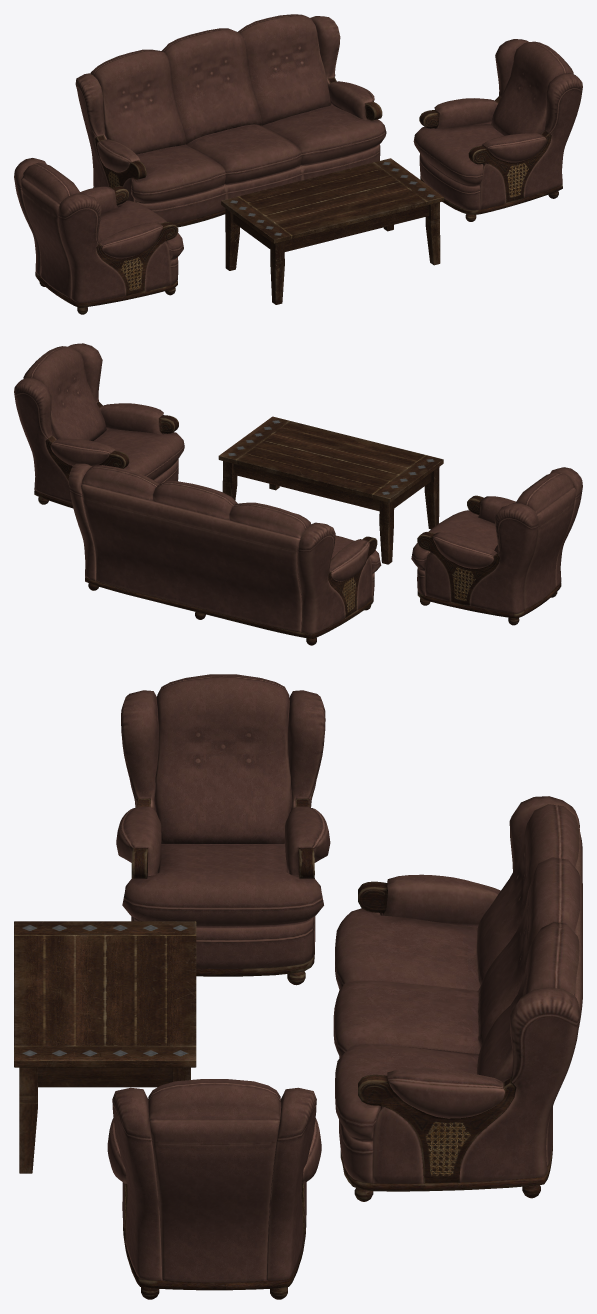
Rendered from sofa_-_classic_furniture_set..glb.
The picture shows the model from 3 angles, top to bottom: view 1: azimuth 30°, elevation 25°; view 2: azimuth 150°, elevation 25°; view 3: azimuth 270°, elevation 25°; orthographic projection. The views are drawn at different scales.
Visible parts, largest first — view 1: sofa_classic_ch_models__textile_0, armchair_classic_ch_models_armchair_classic_ch_models_01_tex, table_low, armchair_classic_ch_models_armchair_classic_ch_models_textil, armchair_classic_ch_models_armchair_classic_ch_models_01_woo, armchair_classic_ch_models_armchair_classic_ch_models_wood_0, sofa_classic_ch_models__wood_0; view 2: sofa_classic_ch_models__textile_0, armchair_classic_ch_models_armchair_classic_ch_models_01_tex, armchair_classic_ch_models_armchair_classic_ch_models_textil, table_low, armchair_classic_ch_models_armchair_classic_ch_models_wood_0, sofa_classic_ch_models__wood_0, armchair_classic_ch_models_armchair_classic_ch_models_01_woo; view 3: sofa_classic_ch_models__textile_0, armchair_classic_ch_models_armchair_classic_ch_models_textil, armchair_classic_ch_models_armchair_classic_ch_models_01_tex, table_low, sofa_classic_ch_models__wood_0, armchair_classic_ch_models_armchair_classic_ch_models_wood_0, armchair_classic_ch_models_armchair_classic_ch_models_01_woo.
Boxes of the visible parts, x1,y1,x2,y2 form: sofa_classic_ch_models__textile_0: (75,14,386,223); armchair_classic_ch_models_armchair_classic_ch_models_01_tex: (413,39,582,210); table_low: (221,158,444,304); armchair_classic_ch_models_armchair_classic_ch_models_textil: (14,158,183,303); armchair_classic_ch_models_armchair_classic_ch_models_01_woo: (419,96,562,221); armchair_classic_ch_models_armchair_classic_ch_models_wood_0: (35,186,178,314); sofa_classic_ch_models__wood_0: (93,77,382,227); sofa_classic_ch_models__textile_0: (68,463,381,634); armchair_classic_ch_models_armchair_classic_ch_models_01_tex: (14,343,184,503); armchair_classic_ch_models_armchair_classic_ch_models_textil: (411,467,582,613); table_low: (218,416,443,564); armchair_classic_ch_models_armchair_classic_ch_models_wood_0: (417,495,561,625); sofa_classic_ch_models__wood_0: (85,536,377,645); armchair_classic_ch_models_armchair_classic_ch_models_01_woo: (34,401,178,508); sofa_classic_ch_models__textile_0: (333,796,582,1183); armchair_classic_ch_models_armchair_classic_ch_models_textil: (116,674,330,968); armchair_classic_ch_models_armchair_classic_ch_models_01_tex: (107,1079,321,1282); table_low: (14,921,196,1173); sofa_classic_ch_models__wood_0: (340,881,552,1201); armchair_classic_ch_models_armchair_classic_ch_models_wood_0: (131,798,314,985); armchair_classic_ch_models_armchair_classic_ch_models_01_woo: (123,1183,306,1299).
Bounding box in the file's own units: 387 × 97.47 × 215.
Materials: 5 (5 with a texture image).
